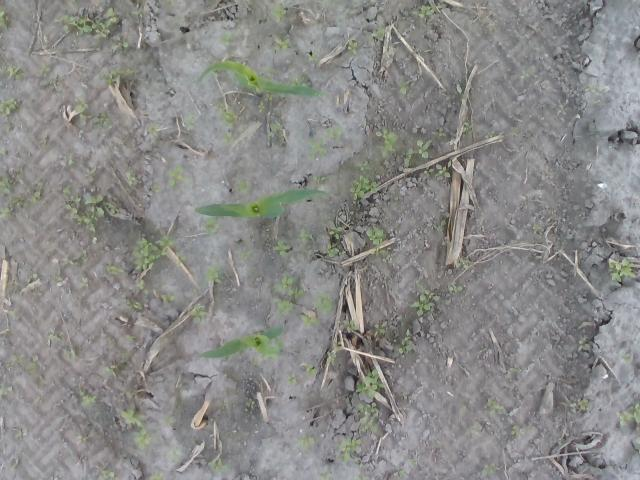Maize: (196, 60, 325, 98), (195, 188, 332, 220), (200, 326, 286, 358)
Weeds: (59, 184, 104, 232), (55, 8, 120, 40), (132, 235, 178, 270), (356, 369, 386, 399), (403, 139, 432, 166), (274, 273, 304, 299), (374, 125, 398, 157), (411, 290, 440, 316), (608, 258, 637, 283), (348, 176, 378, 200), (357, 402, 380, 433), (334, 435, 360, 462), (104, 350, 130, 377), (214, 102, 240, 128), (38, 63, 62, 91), (98, 68, 134, 85), (616, 403, 640, 428), (6, 354, 39, 372), (133, 428, 159, 450), (121, 404, 145, 427), (412, 2, 443, 18), (314, 291, 334, 315), (168, 165, 189, 187), (366, 225, 387, 247), (260, 340, 282, 360), (74, 97, 91, 122), (206, 457, 231, 474), (202, 264, 223, 284), (306, 137, 326, 158), (110, 35, 132, 54), (63, 250, 88, 266), (0, 64, 24, 80), (188, 302, 207, 322), (92, 110, 112, 129), (398, 328, 412, 355), (0, 98, 18, 118), (486, 398, 506, 416), (201, 216, 219, 236), (270, 4, 288, 23), (10, 194, 31, 210), (322, 244, 346, 258), (297, 434, 315, 452), (268, 124, 286, 142), (510, 424, 533, 438), (276, 298, 292, 318), (125, 171, 139, 193), (0, 4, 11, 32), (370, 250, 392, 264), (434, 161, 452, 178), (272, 240, 291, 256), (78, 391, 98, 406), (272, 35, 292, 50), (326, 125, 343, 142), (0, 175, 14, 195), (300, 314, 320, 328), (31, 183, 44, 204), (166, 446, 182, 463), (48, 326, 64, 343), (328, 224, 344, 241), (184, 112, 197, 132), (289, 74, 308, 87), (82, 167, 98, 182), (568, 399, 588, 411), (394, 78, 409, 94), (374, 320, 387, 338), (297, 228, 312, 243), (218, 132, 234, 146), (235, 180, 251, 194), (432, 220, 446, 236), (342, 319, 359, 332), (63, 346, 77, 361), (0, 206, 14, 221), (456, 84, 466, 105), (106, 264, 125, 275), (316, 467, 332, 480), (51, 268, 64, 284), (482, 463, 498, 476), (125, 299, 143, 310), (372, 28, 386, 42), (135, 279, 148, 294), (325, 350, 337, 366), (356, 160, 372, 172), (147, 469, 164, 480), (106, 202, 119, 216), (174, 252, 189, 264), (237, 250, 252, 262), (305, 364, 317, 378), (0, 383, 12, 397), (146, 122, 158, 136), (456, 257, 470, 269), (219, 32, 231, 46), (462, 122, 473, 137), (584, 83, 600, 93), (14, 428, 27, 440), (27, 272, 40, 284), (520, 67, 532, 80), (306, 49, 318, 62), (286, 372, 297, 386), (347, 40, 358, 54), (64, 154, 76, 166), (578, 338, 590, 350), (432, 128, 446, 138), (262, 66, 276, 76), (160, 294, 177, 302), (469, 424, 480, 436), (78, 276, 88, 289), (393, 470, 407, 479), (448, 284, 463, 292), (390, 188, 400, 200), (313, 175, 326, 184), (151, 184, 162, 194), (164, 417, 176, 426), (102, 470, 114, 479), (354, 458, 362, 471), (424, 166, 434, 176), (622, 353, 632, 363), (414, 280, 425, 289), (245, 398, 256, 407), (532, 223, 541, 234), (76, 434, 88, 442), (122, 388, 134, 396), (264, 92, 274, 101), (558, 105, 567, 115), (635, 437, 640, 454), (125, 333, 137, 340), (258, 102, 266, 112), (2, 123, 10, 132), (485, 130, 494, 138), (212, 69, 220, 78), (332, 341, 342, 348), (511, 126, 518, 136), (354, 476, 370, 480), (190, 288, 198, 296), (91, 236, 98, 245), (251, 358, 259, 365), (131, 11, 141, 16), (0, 148, 7, 155), (557, 438, 563, 446), (410, 458, 418, 464), (510, 366, 517, 372), (164, 0, 174, 4)
